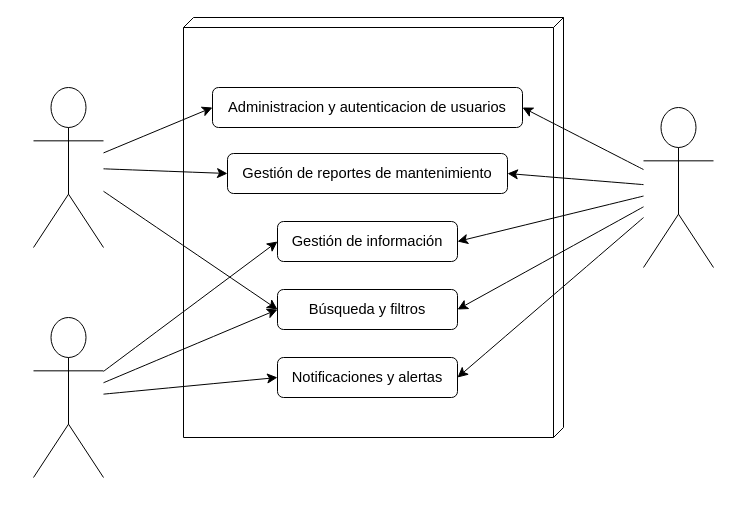
This 739x531 diagram has some shape labels left out. The shapes that lost their labels are listed below. From the top down, each one's centre as x and y in pixels, then its label:
the point at 68,167: OPERADOR TECNICO
the point at 678,187: ANALISTA DE OPERACIONES
the point at 68,397: SUPERVISOR DE OPERACIONES
